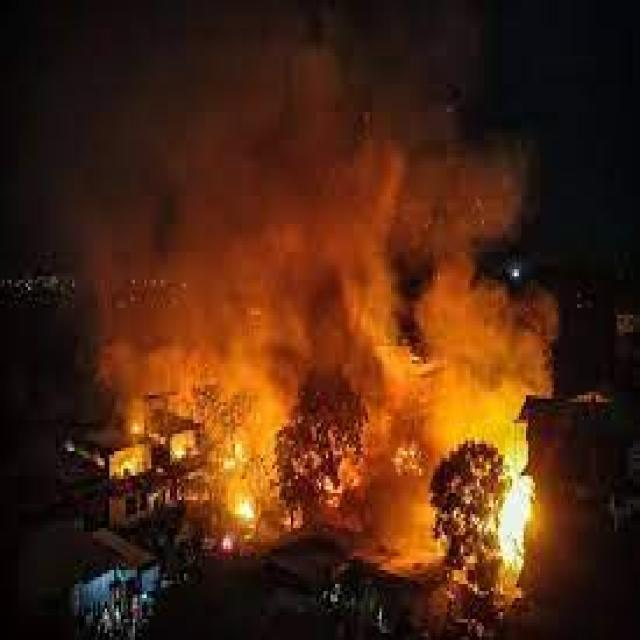Fire: (226, 431, 261, 526), (507, 454, 532, 566)
Smoke: (75, 5, 422, 292), (431, 70, 548, 446), (86, 292, 434, 406), (363, 386, 428, 552)
